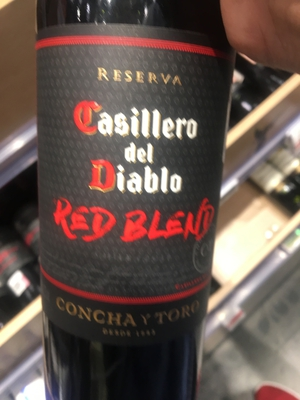casillero del diablo red blend: (31, 3, 243, 392)
